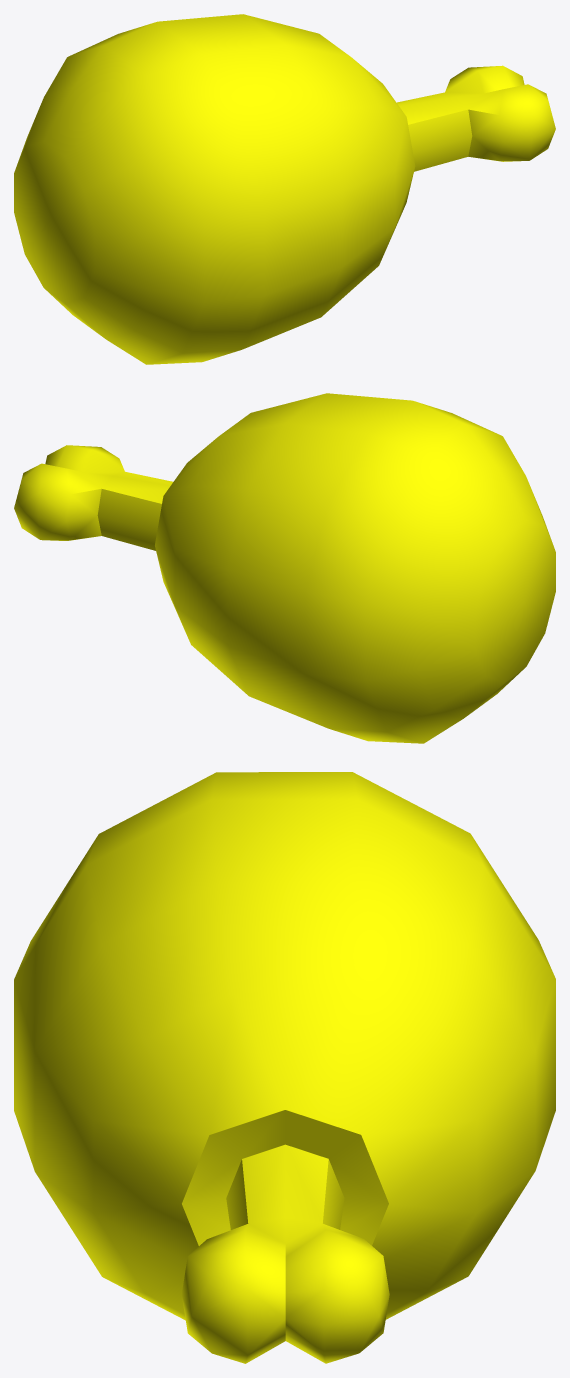
Rendered from kaykit-food-ingredient-ham.glb.
The picture shows the model from 3 angles, top to bottom: view 1: azimuth 30°, elevation 25°; view 2: azimuth 150°, elevation 25°; view 3: azimuth 270°, elevation 25°; orthographic projection. The views are drawn at different scales.
Parts seen in each view (by area): view 1: food_ingredient_ham; view 2: food_ingredient_ham; view 3: food_ingredient_ham.
Boxes of the visible parts, box(x1,y1,x2,y2) form: food_ingredient_ham: box(14, 14, 555, 364); food_ingredient_ham: box(14, 393, 555, 743); food_ingredient_ham: box(14, 772, 555, 1363).
Bounding box in the file's own units: 1.39 × 0.83 × 0.83.
